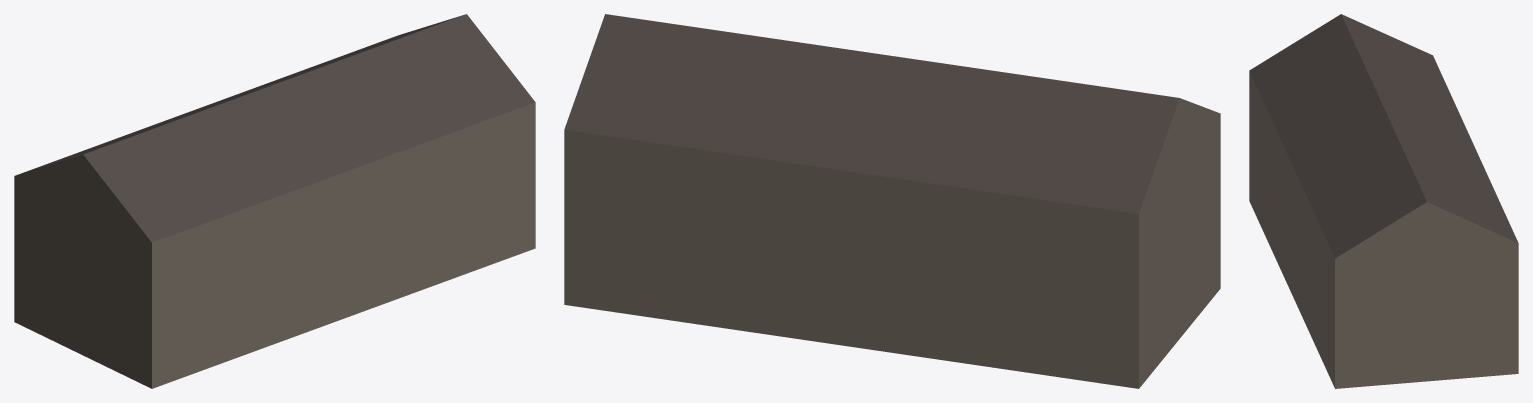
3 views of the same model, side by side, from view 1: azimuth 30°, elevation 25°; view 2: azimuth 150°, elevation 25°; view 3: azimuth 270°, elevation 25° (orthographic). The views are drawn at different scales.
Visible parts, largest first — view 1: HP-w299011328; view 2: HP-w299011328; view 3: HP-w299011328.
Part boxes in pixels (x1,y1,x2,y2): HP-w299011328: [14, 14, 535, 388]; HP-w299011328: [564, 14, 1220, 388]; HP-w299011328: [1249, 14, 1518, 388].
Size of the model in its own units: 30.05 by 12.38 by 16.84.
